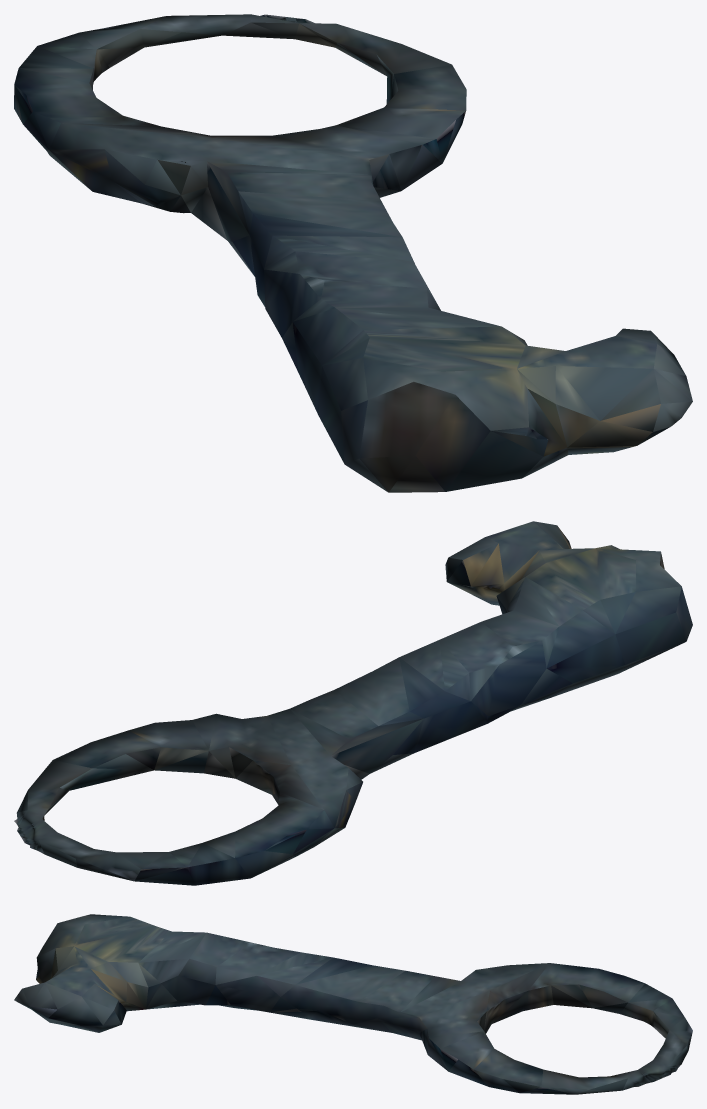
3 views of the same model, one above another, from view 1: azimuth 30°, elevation 25°; view 2: azimuth 150°, elevation 25°; view 3: azimuth 270°, elevation 25° (orthographic). The views are drawn at different scales.
Parts seen in each view (by area): view 1: Key; view 2: Key; view 3: Key.
Part boxes in pixels (x1=…): Key: x1=14, y1=14, x2=692, y2=492; Key: x1=14, y1=521, x2=692, y2=885; Key: x1=14, y1=914, x2=692, y2=1094.
Size of the model in its own units: 8.83 by 1.76 by 18.4.
